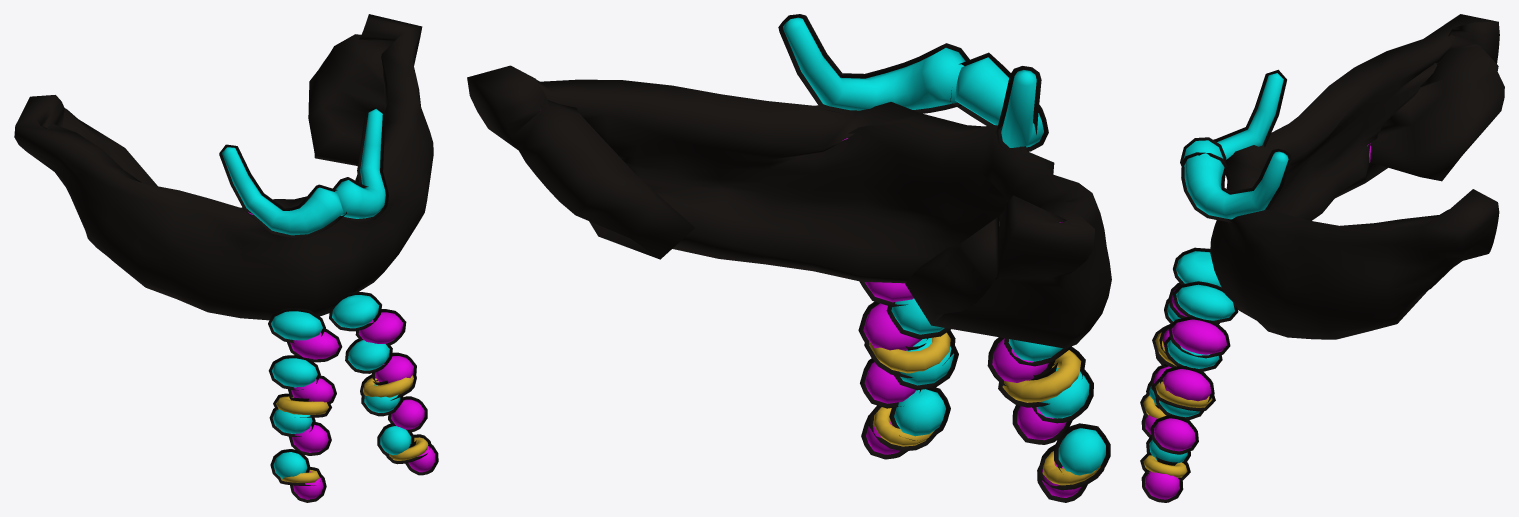
File: beard_forked_male_hi.glb
3 renders of one model, left to right at view 1: azimuth 30°, elevation 25°; view 2: azimuth 150°, elevation 25°; view 3: azimuth 270°, elevation 25°, orthographic. The views are drawn at different scales.
Visible parts, largest first — view 1: beard_forked_male_hi; view 2: beard_forked_male_hi; view 3: beard_forked_male_hi.
Part boxes in pixels (bbox=[...]): beard_forked_male_hi: bbox=[14, 14, 438, 502]; beard_forked_male_hi: bbox=[467, 14, 1111, 502]; beard_forked_male_hi: bbox=[1140, 14, 1504, 502].
Bounding box in the file's own units: 0.5225 × 0.4025 × 0.3701.
